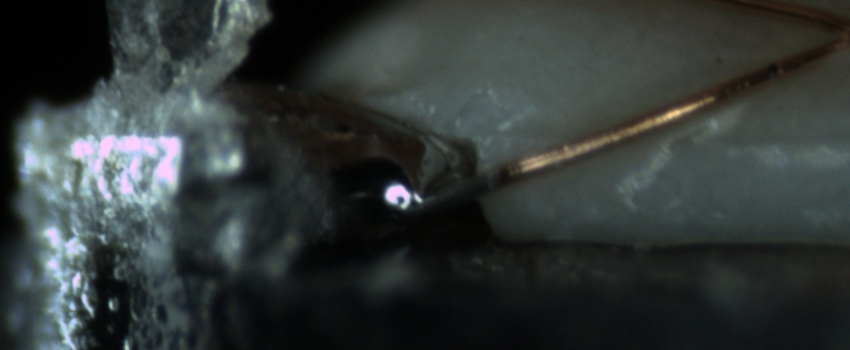CL: (798, 5, 850, 61)
